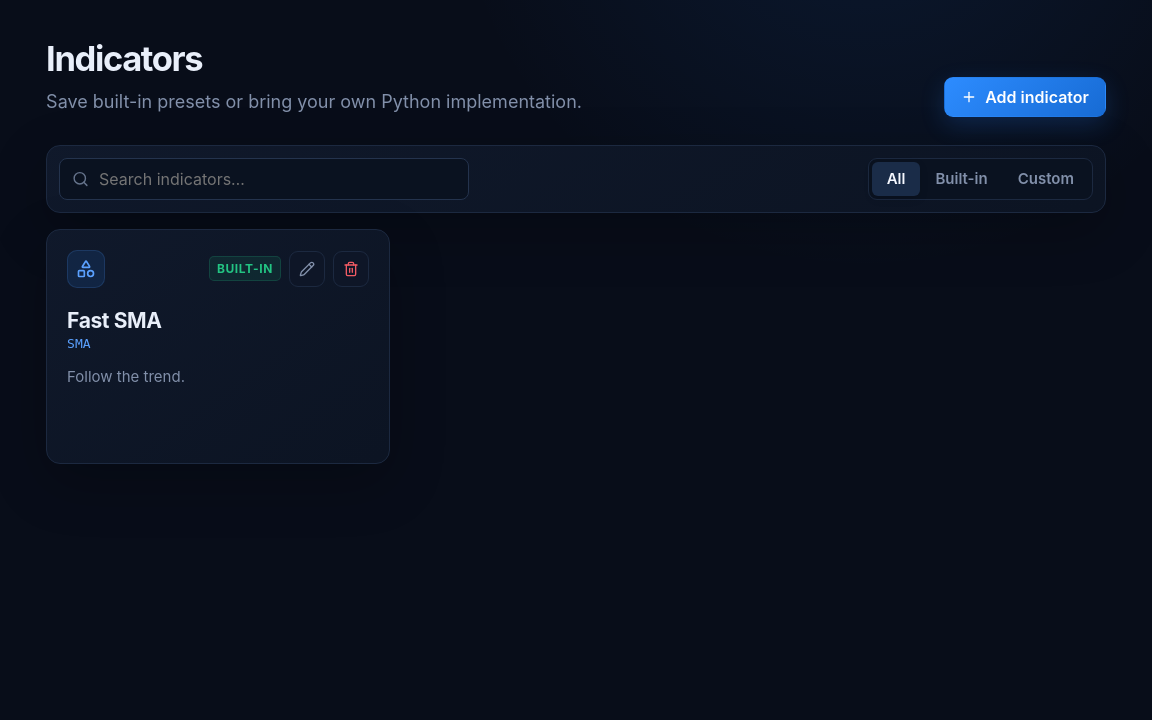
Scenario: library page › uses the selected built-in indicators class name as the default asset name
What coordinates should you click on to do the following:
click the button "Add indicator"
I would click on:
 (1025, 97)
Its box is x1=944 y1=77 x2=1106 y2=117.
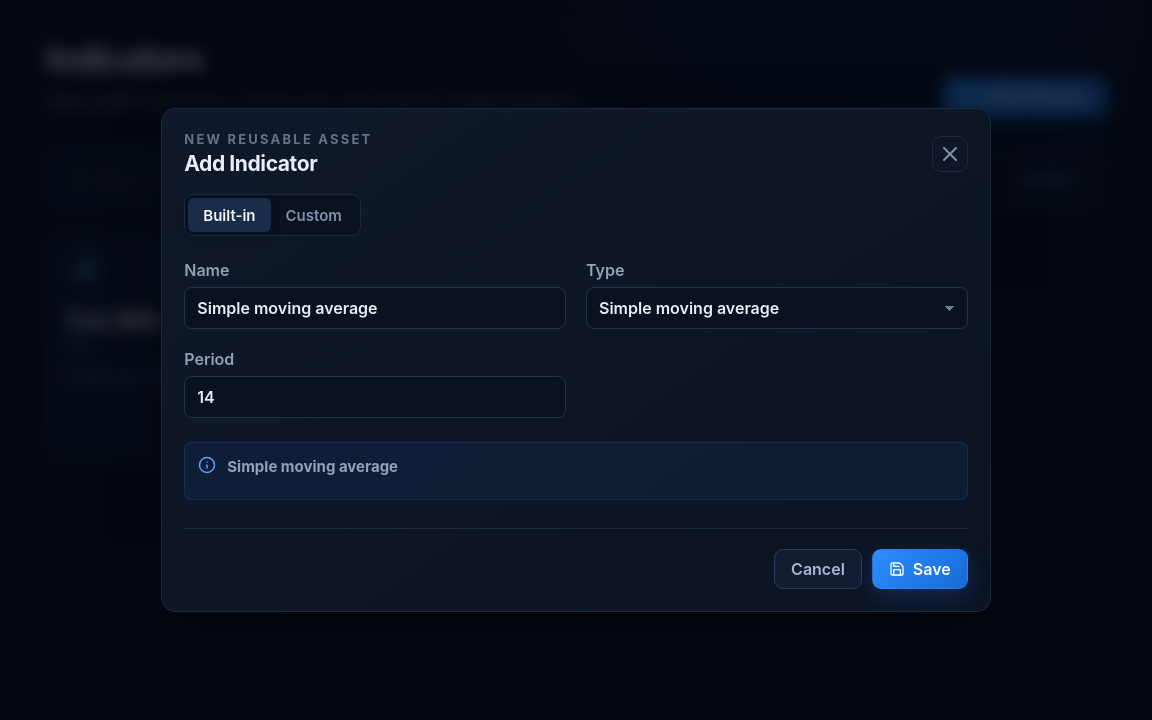
expect the field labelled "Name" holds "Simple moving average": met, box x1=184 y1=287 x2=566 y2=329
